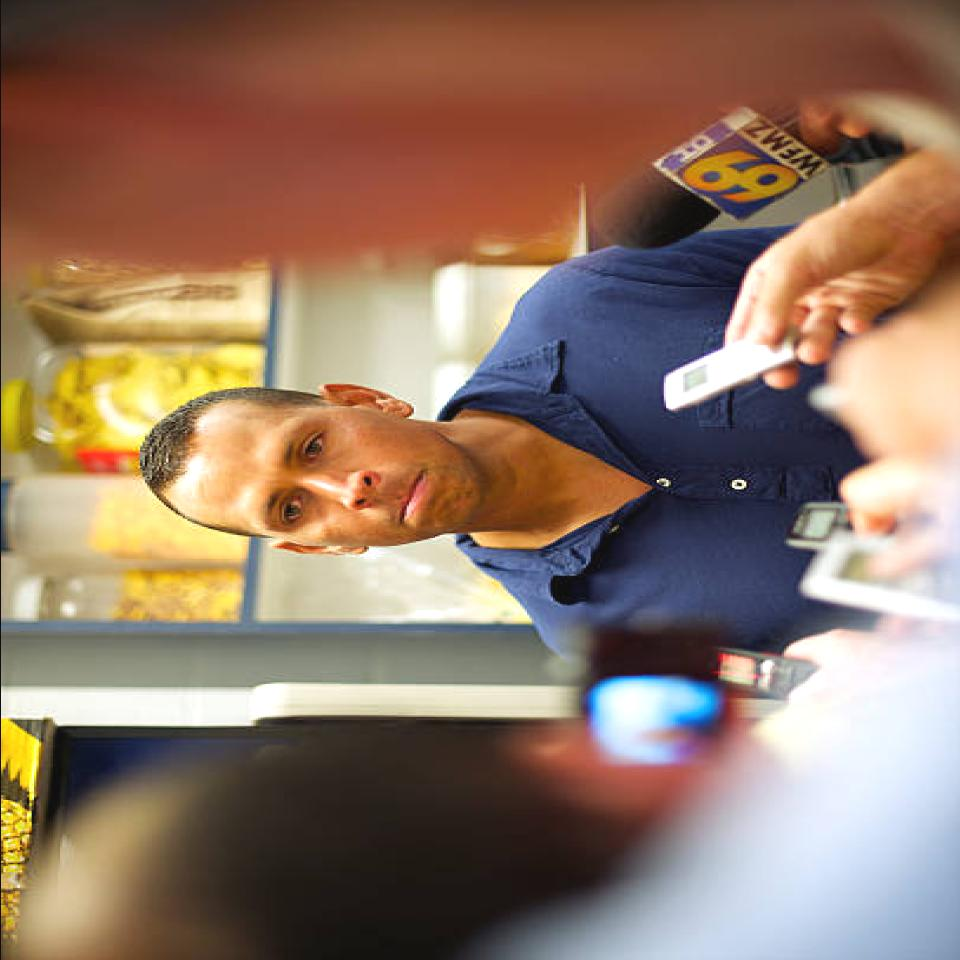Sadness: (183, 386, 463, 556)
